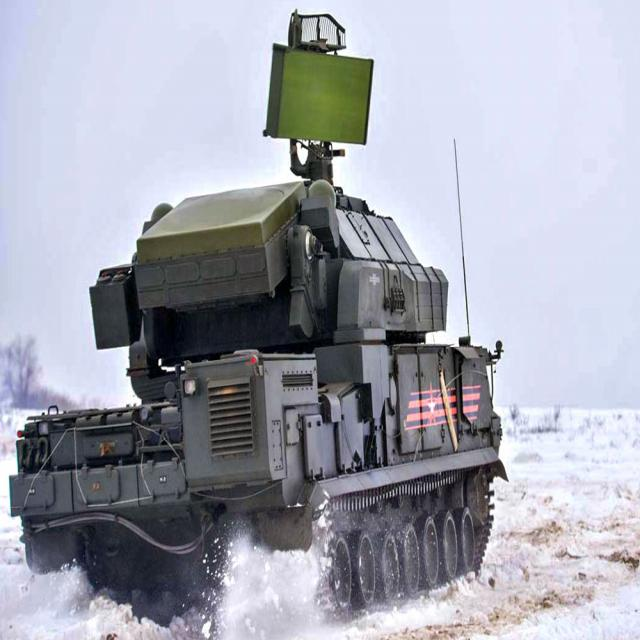MIL_EW_RDR: (29, 43, 502, 606)
